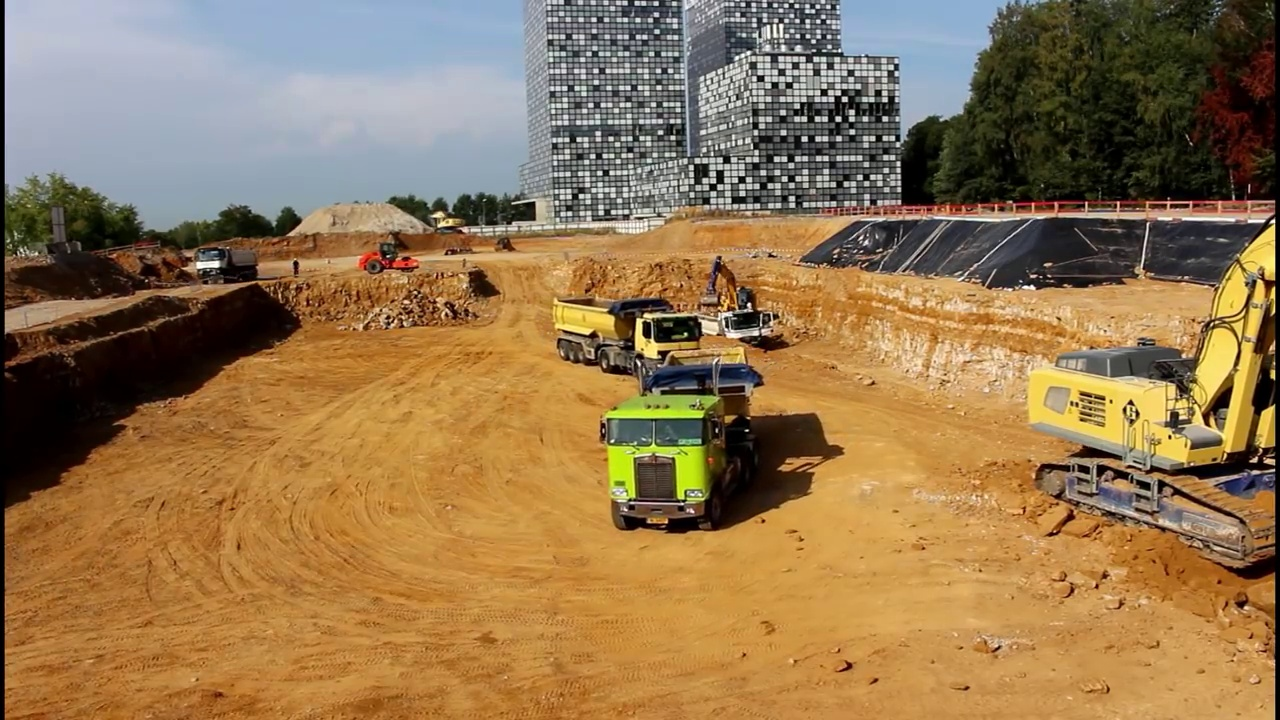compactor: (355, 241, 422, 276)
excavator: (1019, 209, 1280, 572), (699, 251, 762, 331), (426, 206, 465, 237)
truck: (596, 344, 767, 538), (547, 289, 706, 383), (688, 307, 782, 354), (193, 245, 261, 286)
worker: (289, 255, 305, 281)
